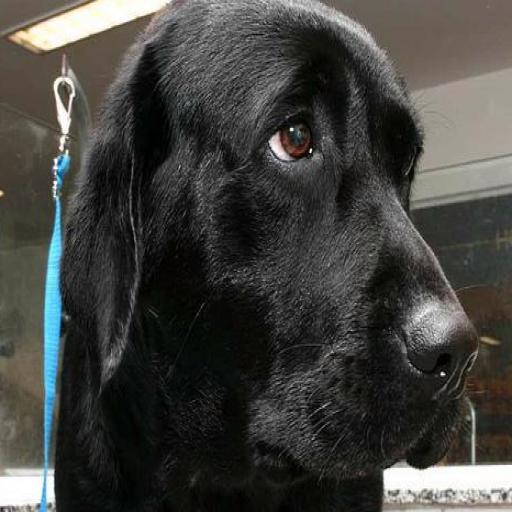dog_face: (70, 0, 479, 486)
